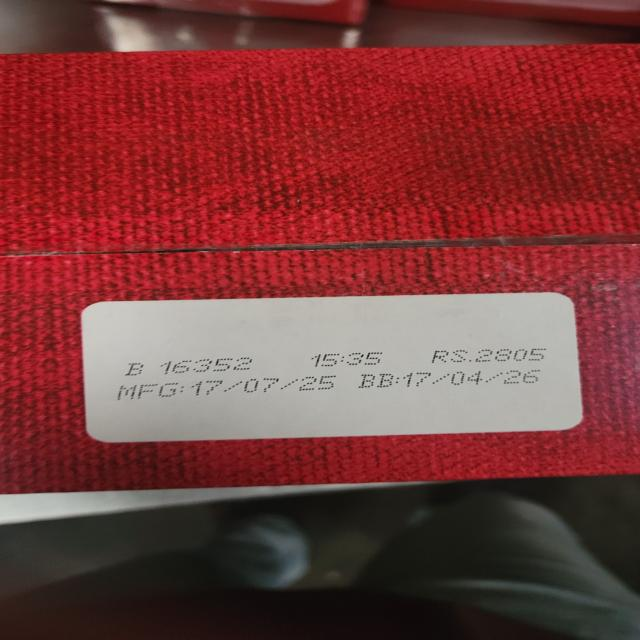BB: (355, 369, 554, 395)
Batch: (128, 360, 268, 378)
MFG: (117, 377, 339, 402)
RS: (435, 348, 554, 368)
TimeStamp: (311, 353, 402, 373)
